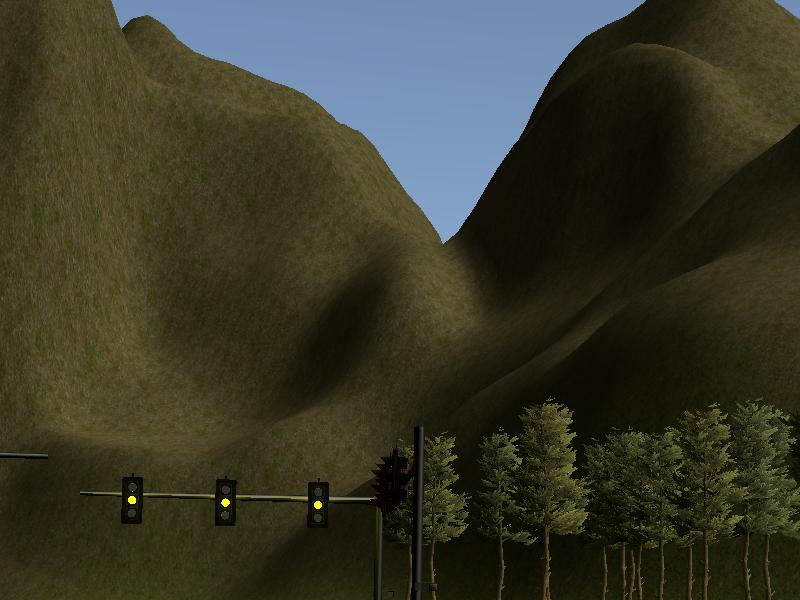Yellow: (214, 478, 236, 527), (120, 476, 142, 522), (307, 481, 328, 526)
